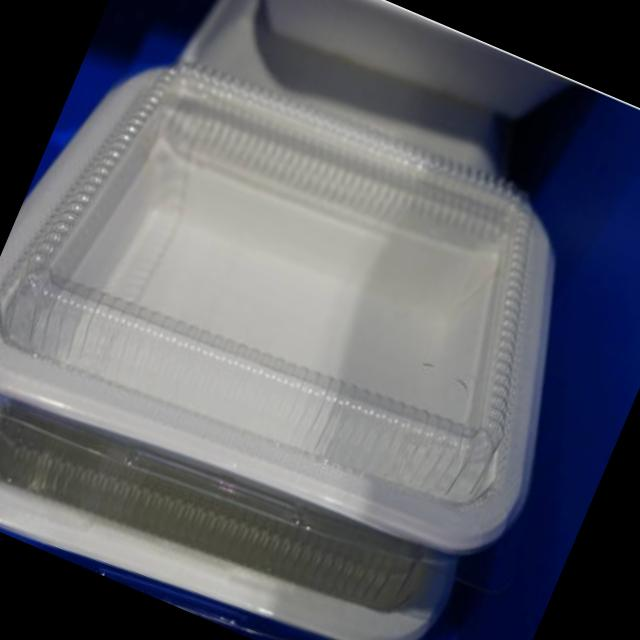KemasanPlastik: (0, 22, 631, 582)
